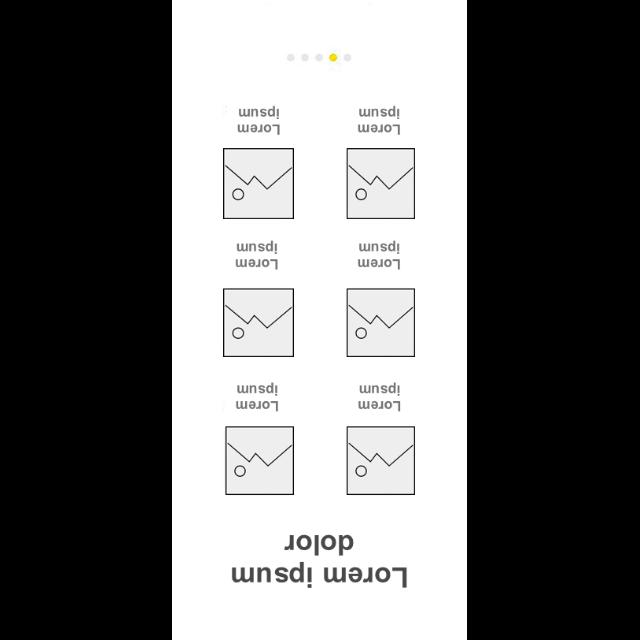image: (223, 148, 294, 218), (346, 426, 416, 496), (346, 148, 416, 218), (223, 288, 294, 357), (346, 288, 416, 357), (226, 426, 294, 494)
pageindicator: (286, 54, 352, 62)
text: (232, 532, 408, 588), (358, 240, 402, 270), (358, 382, 402, 411), (236, 240, 278, 270), (238, 105, 280, 135), (237, 382, 280, 411), (358, 106, 400, 134)
